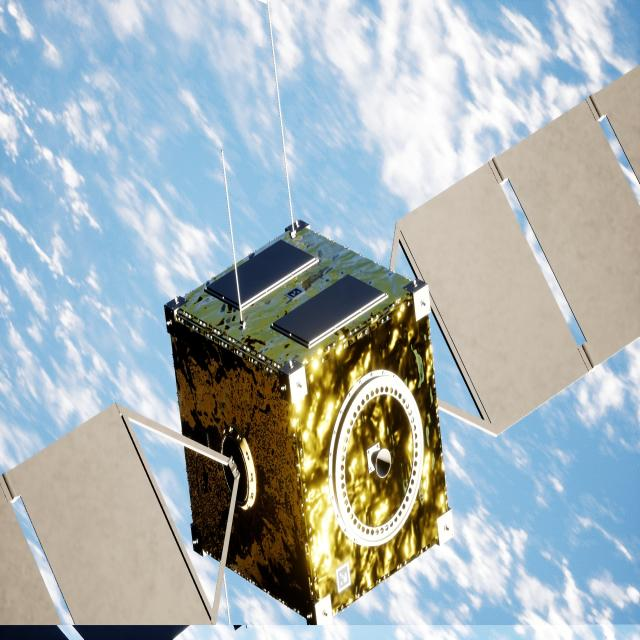medium_debris: (0, 66, 640, 640)
